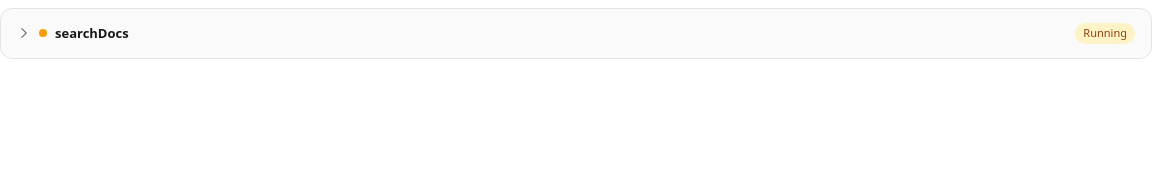
Test: useDefaultRenderTool › default renderer shows status and expands to show parameters/result
The image size is (1152, 181).
Check: the text "Running" is shown, box [1075,23,1135,44]
Click the text "searchDocs" at coordinates (92, 33), box [55,24,129,43]
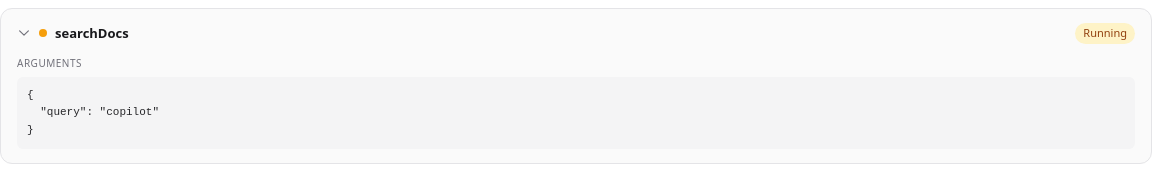
Check: the text "Arguments" is shown, box [17,56,82,70]
Check: the text "{ \"query\": \"copilot\" }" is shown, box [17,76,1135,149]
